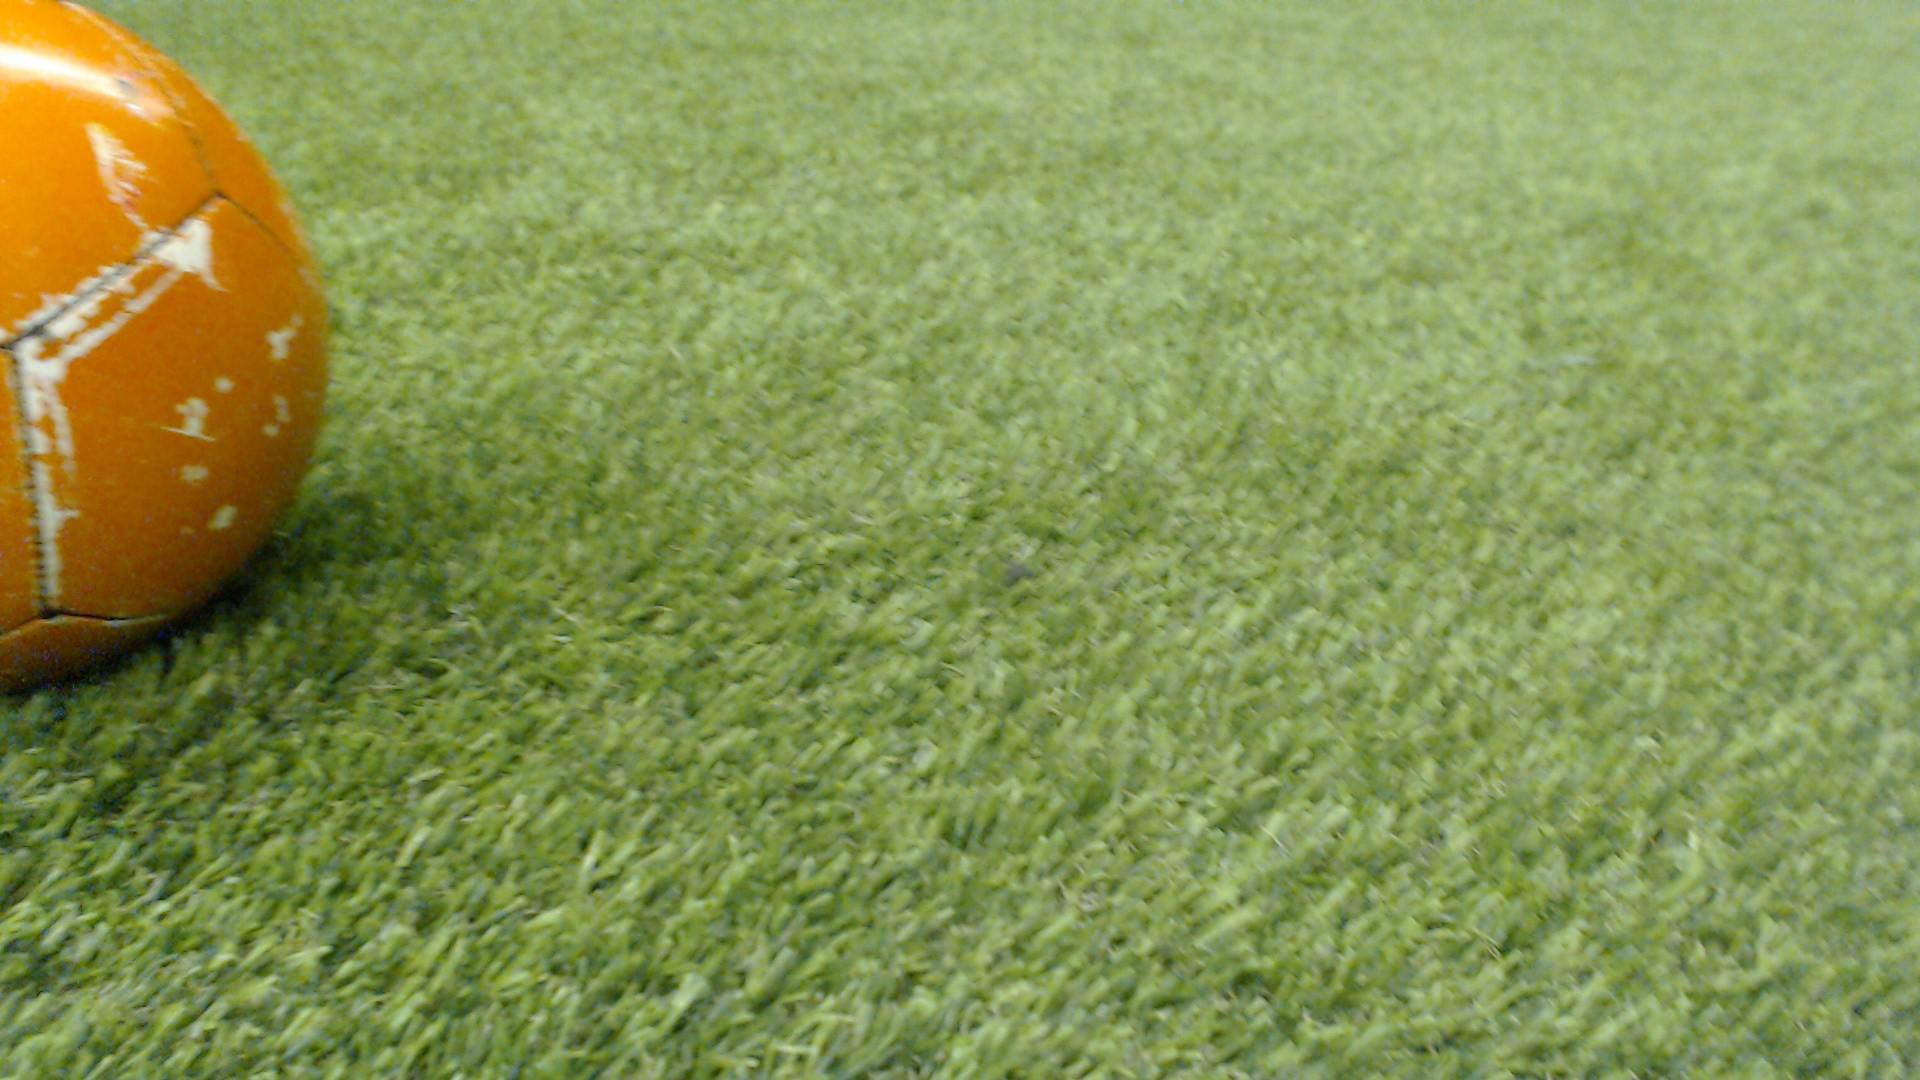bola: (0, 0, 361, 737)
